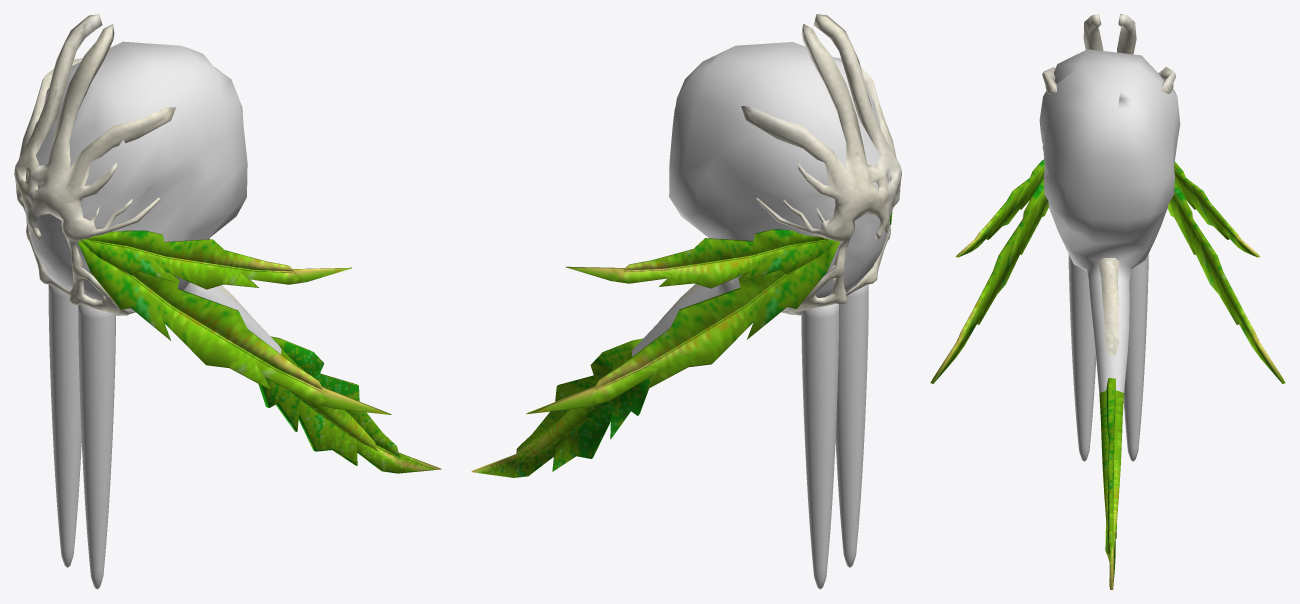
Rendered from Plantoide.fbx.
3 views of the same model, side by side, from view 1: azimuth 30°, elevation 25°; view 2: azimuth 150°, elevation 25°; view 3: azimuth 270°, elevation 25° (orthographic). The views are drawn at different scales.
Visible parts, largest first — view 1: Cylinder.002; view 2: Cylinder.002; view 3: Cylinder.002.
Part boxes in pixels (box(x1,y1,x2,y2)): Cylinder.002: box(14, 14, 441, 589); Cylinder.002: box(471, 14, 901, 589); Cylinder.002: box(930, 14, 1285, 589).
Bounding box in the file's own units: 496 × 632 × 446.
3 materials, 2 textured.
